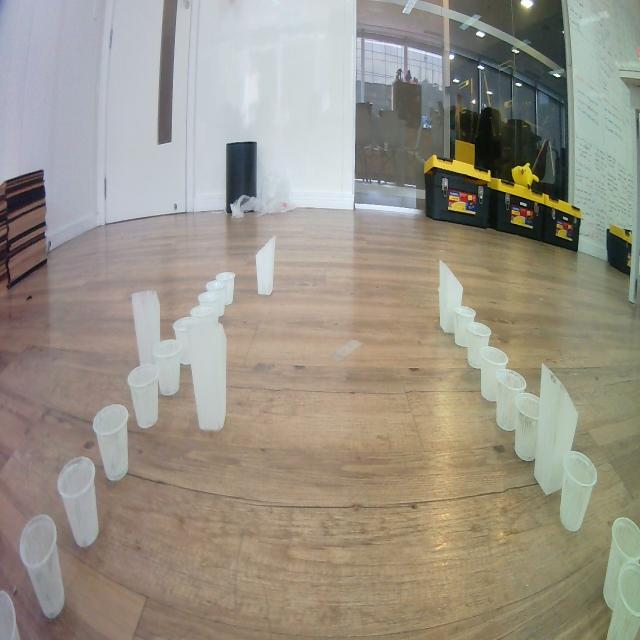erva_daninha: (533, 363, 579, 495), (188, 317, 227, 431), (131, 290, 161, 368), (438, 259, 464, 334), (255, 234, 276, 296)
planta: (20, 514, 66, 620), (57, 456, 100, 548), (602, 516, 640, 612), (559, 451, 598, 532), (92, 404, 130, 482), (607, 561, 640, 640), (127, 364, 160, 429), (495, 369, 527, 432), (514, 392, 542, 462), (479, 345, 509, 402), (152, 340, 181, 397), (172, 316, 202, 364), (467, 322, 492, 369), (0, 589, 20, 640), (454, 306, 476, 348), (215, 271, 236, 306), (198, 291, 225, 316), (190, 304, 220, 325), (206, 280, 228, 304)
